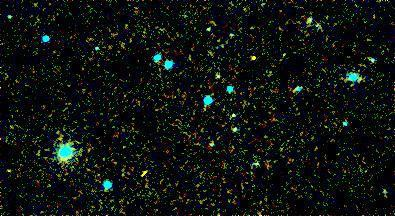star: (238, 39, 268, 69)
